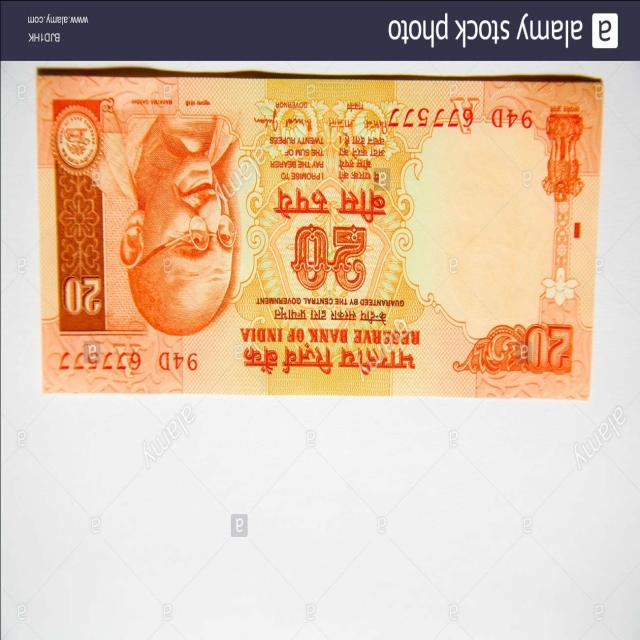20IndianRupees: (41, 87, 594, 395)
